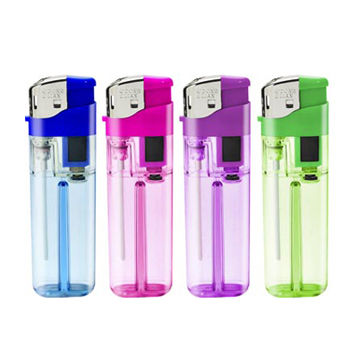Nonrec_Other: (98, 64, 183, 302), (21, 66, 104, 302), (183, 67, 257, 299), (261, 70, 333, 306)
